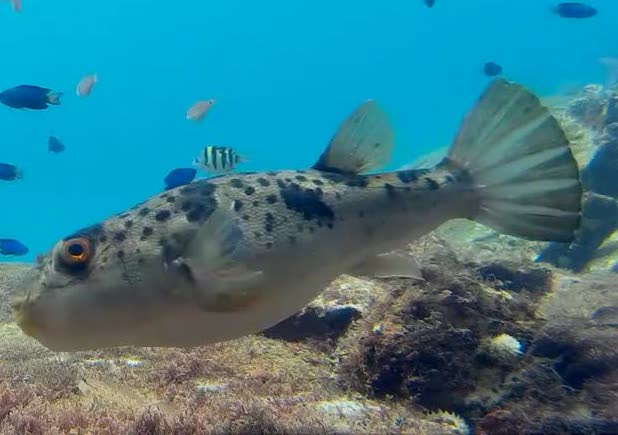hugu: (12, 75, 583, 357)
